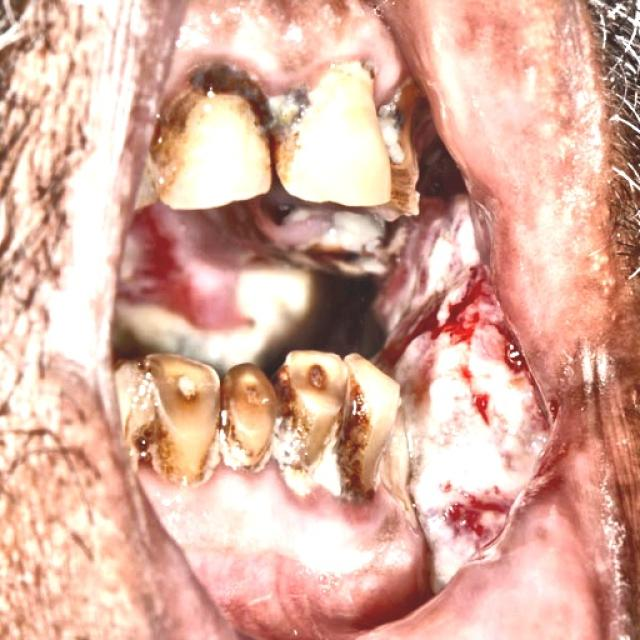cancer-detection: (377, 193, 541, 588)
processing_area: (143, 5, 554, 637)
